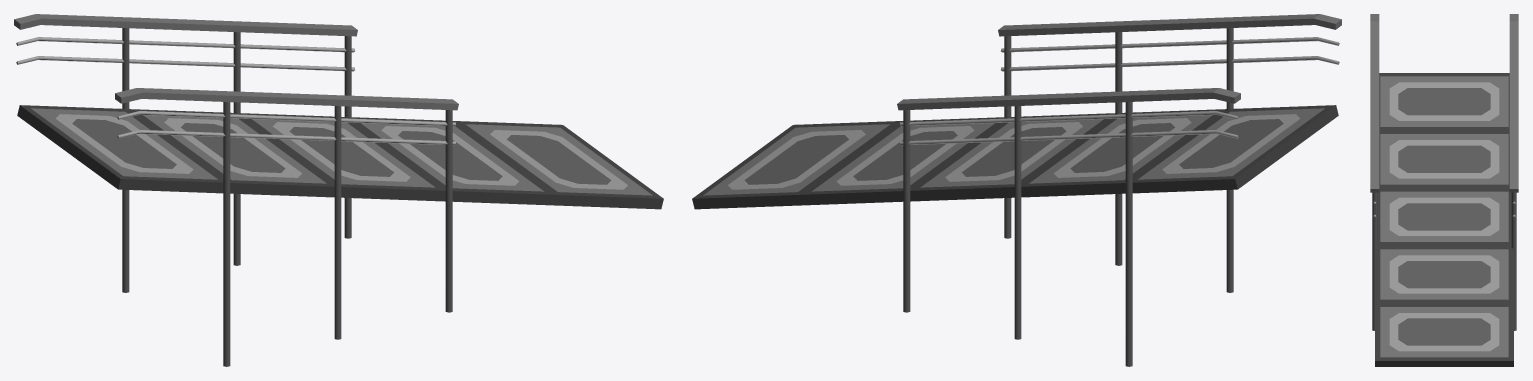
Rendered from gangway_003.fbx.
The picture shows the model from 3 angles, left to right: view 1: azimuth 30°, elevation 25°; view 2: azimuth 150°, elevation 25°; view 3: azimuth 270°, elevation 25°; orthographic projection. The views are drawn at different scales.
Parts seen in each view (by area): view 1: gangway_003; view 2: gangway_003; view 3: gangway_003.
Boxes of the visible parts, bbox=[...] form: gangway_003: bbox=[14, 14, 663, 366]; gangway_003: bbox=[692, 14, 1341, 366]; gangway_003: bbox=[1370, 14, 1518, 366].
Bounding box in the file's own units: 701 × 239 × 364.
